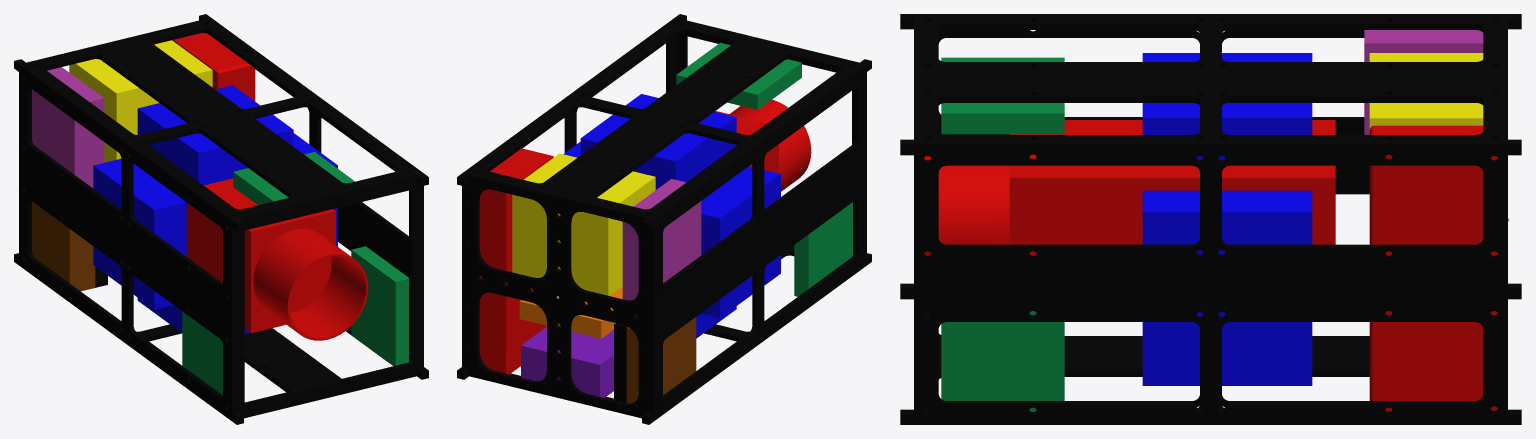
The model's file is oceaneye-interior.glb.
The picture shows the model from 3 angles, left to right: view 1: azimuth 30°, elevation 25°; view 2: azimuth 150°, elevation 25°; view 3: azimuth 270°, elevation 25°; orthographic projection. The views are drawn at different scales.
Visible parts, largest first — view 1: empty_18, empty_17, empty_15, empty_13, empty_12, empty_9, empty_2, empty_7, empty_4, empty_16, empty_10, empty_8 (+2 smaller); view 2: empty_18, empty_7, empty_16, empty_13, empty_12, empty_2, empty_6, empty_10, empty_4, empty_8, empty_17, empty_5 (+3 smaller); view 3: empty_18, empty_16, empty_15, empty_14, empty_9, empty_12, empty_17, empty_11, empty_8, empty_7, empty_2.
Boxes of the visible parts, x1,y1,x2,y2 form: empty_18: [14, 14, 428, 424]; empty_17: [253, 229, 368, 340]; empty_15: [186, 178, 335, 333]; empty_13: [93, 159, 186, 309]; empty_12: [137, 85, 293, 185]; empty_9: [351, 246, 408, 365]; empty_2: [32, 67, 104, 187]; empty_7: [69, 40, 212, 162]; empty_4: [32, 201, 95, 291]; empty_16: [172, 33, 255, 101]; empty_10: [182, 311, 222, 395]; empty_8: [233, 152, 354, 205]; empty_18: [457, 14, 871, 424]; empty_7: [512, 153, 655, 295]; empty_16: [479, 148, 553, 374]; empty_13: [701, 166, 780, 318]; empty_12: [580, 94, 736, 189]; empty_2: [622, 179, 701, 300]; empty_6: [521, 327, 613, 397]; empty_10: [794, 202, 852, 296]; empty_4: [626, 317, 696, 403]; empty_8: [676, 42, 801, 109]; empty_17: [729, 99, 811, 191]; empty_5: [519, 286, 622, 338]; empty_18: [900, 14, 1521, 424]; empty_16: [1369, 125, 1497, 411]; empty_15: [1009, 120, 1335, 255]; empty_14: [1142, 190, 1312, 351]; empty_9: [941, 311, 1064, 411]; empty_12: [1142, 53, 1312, 160]; empty_17: [924, 156, 1009, 255]; empty_11: [1142, 351, 1312, 385]; empty_8: [941, 57, 1064, 134]; empty_7: [1369, 53, 1483, 129]; empty_2: [1364, 30, 1483, 134].
Bounding box in the file's own units: 226 × 226 × 454.
Materials: 11 (1 with a texture image).
